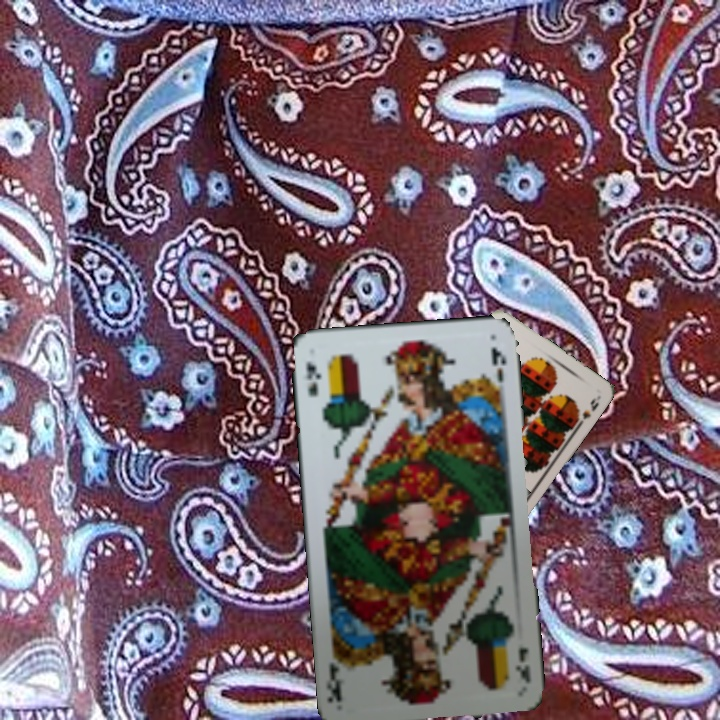EK: (511, 643, 534, 686), (302, 357, 324, 399)
